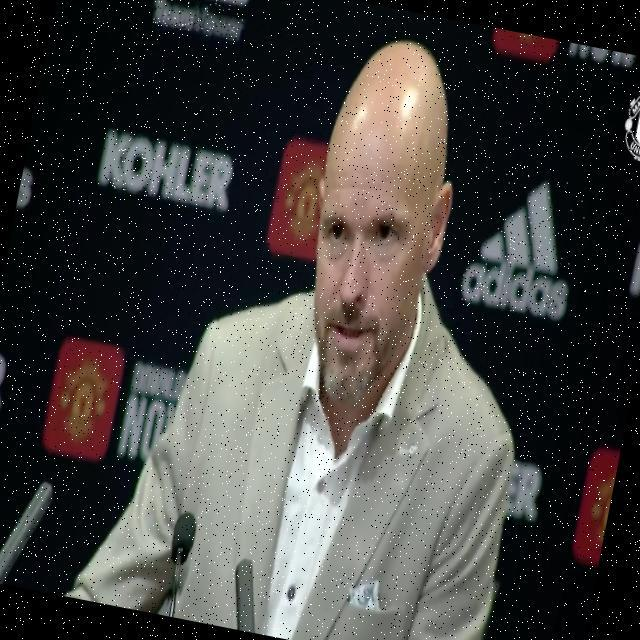Adidas: (457, 167, 591, 322)
Kohler: (96, 128, 237, 214)
TeamViewer: (150, 0, 253, 42)
